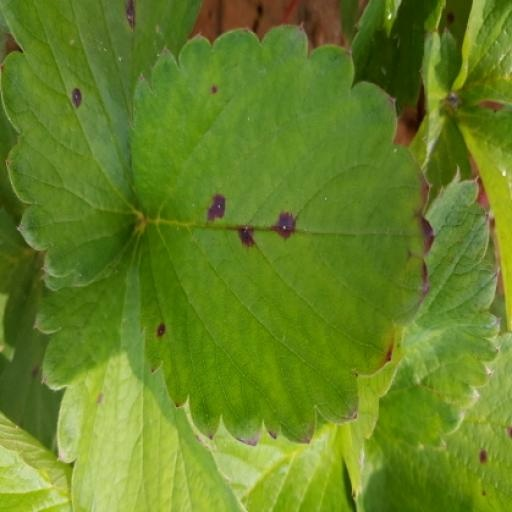Leaf Spot: (130, 65, 436, 492), (34, 0, 250, 290), (0, 225, 204, 511), (364, 0, 511, 179), (0, 57, 64, 260), (438, 462, 473, 511)
